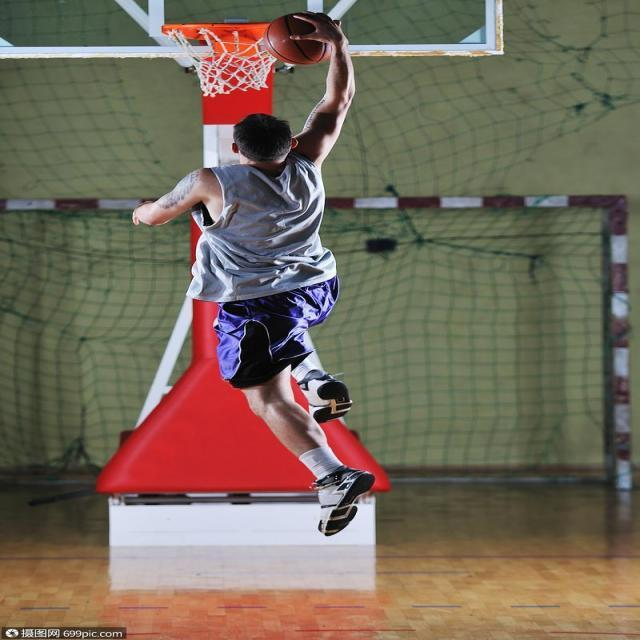rim: (262, 12, 344, 64)
